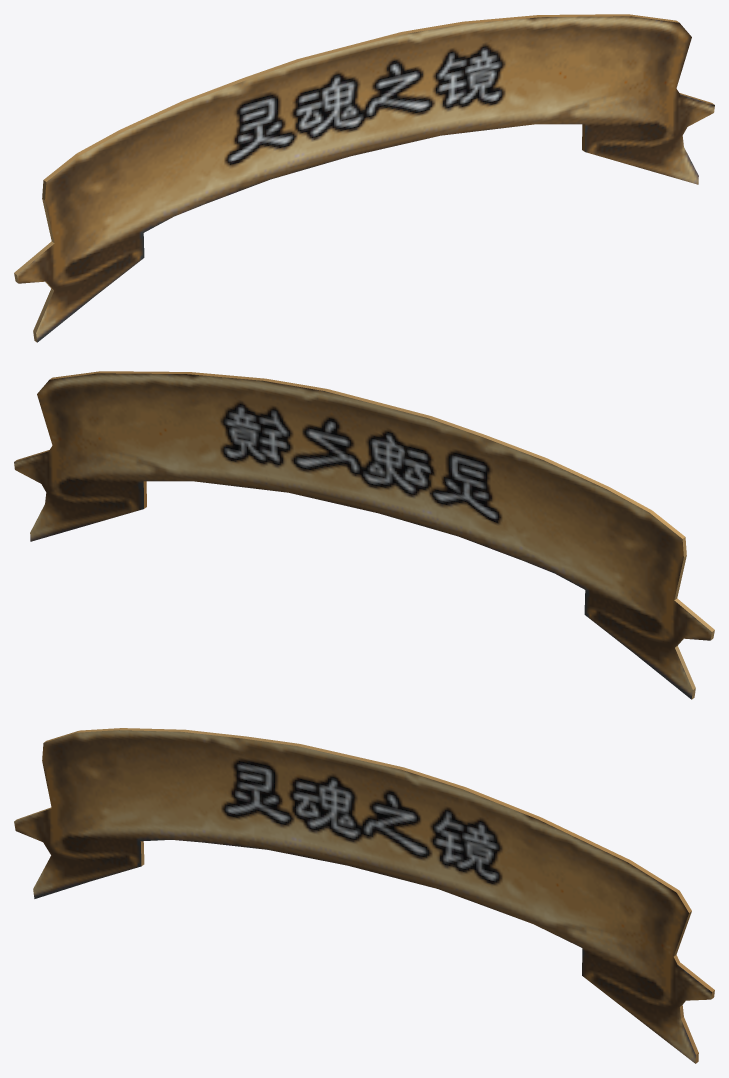
Rendered from NameTag_Legendary.glb.
3 views of the same model, one above another, from view 1: azimuth 30°, elevation 25°; view 2: azimuth 150°, elevation 25°; view 3: azimuth 330°, elevation 25° (orthographic).
Parts seen in each view (by area): view 1: Circle.002; view 2: Circle.002; view 3: Circle.002.
Part boxes in pixels (x1,y1,x2,y2): Circle.002: [14, 14, 714, 342]; Circle.002: [14, 371, 714, 699]; Circle.002: [14, 728, 714, 1063].
Size of the model in its own units: 6.9 by 2.1 by 0.05.
Materials: 1 (1 with a texture image).
